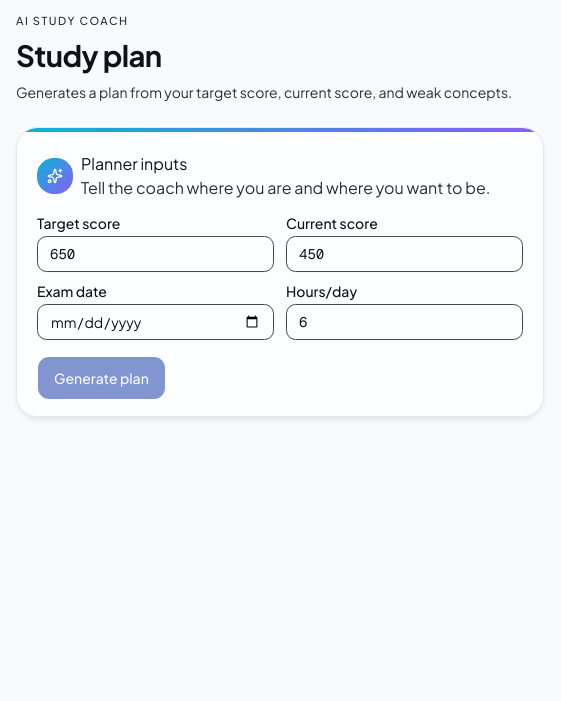
it: Study plan shell › labels a successful AI-personalized plan accordingly
Step 1. Type "2026-05-05" into the date field → [156, 322], box [37,304,274,340]
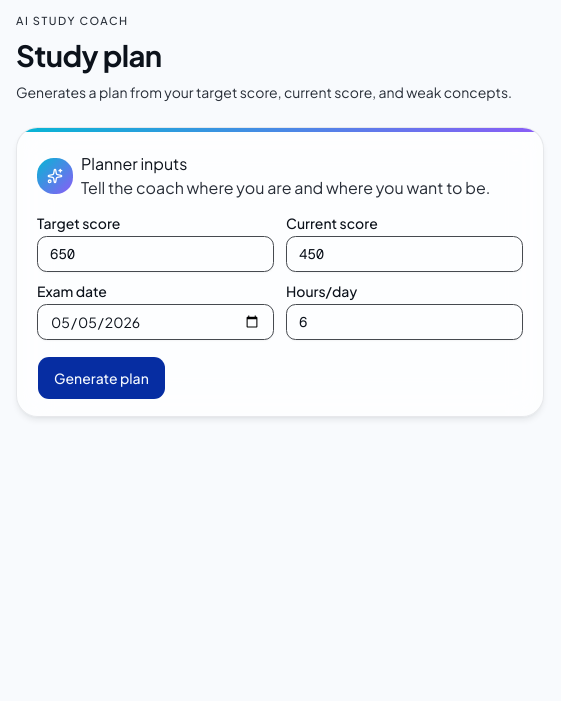
Step 2. Click the button "Generate plan" → [101, 378], box [37,356,166,400]
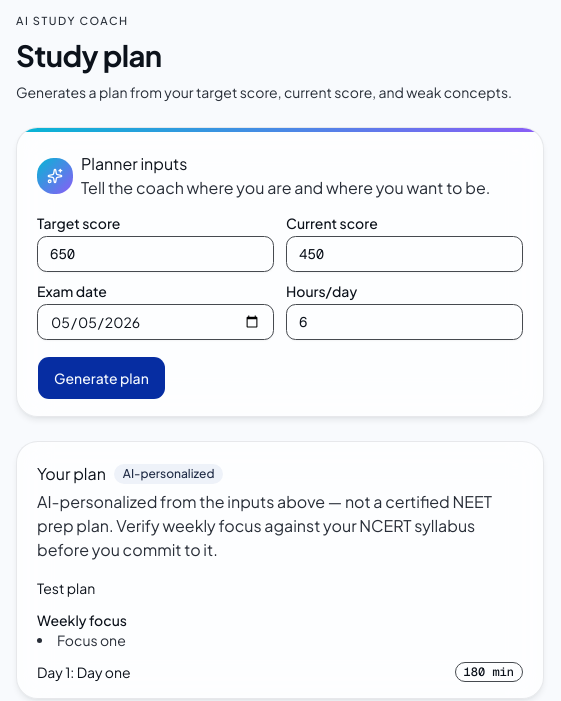
Check: the text "AI-personalized" is shown, box [114,464,224,484]
Check: the text "not a certified NEET prep plan" is shown, box [37,491,492,560]
